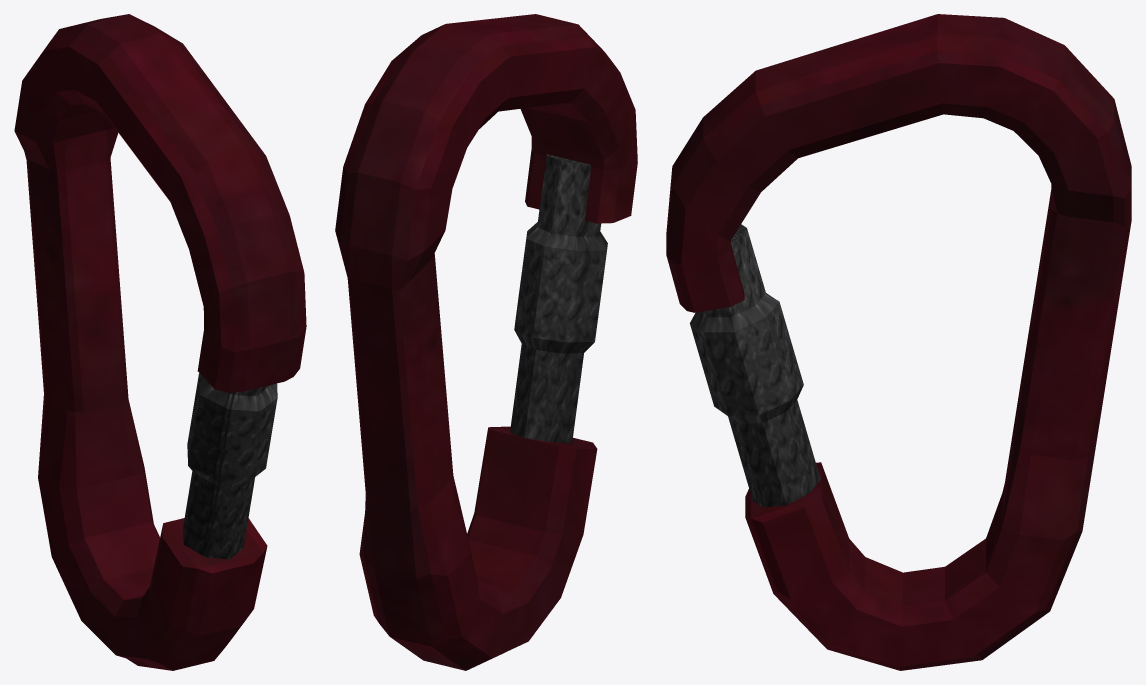
File: mosqueton.fbx
The picture shows the model from 3 angles, left to right: view 1: azimuth 30°, elevation 25°; view 2: azimuth 150°, elevation 25°; view 3: azimuth 270°, elevation 25°; orthographic projection. The views are drawn at different scales.
Visible parts, largest first — view 1: Cube, Cube.001; view 2: Cube, Cube.001; view 3: Cube, Cube.001.
Boxes of the visible parts, x1,y1,x2,y2 form: Cube: [14, 14, 306, 670]; Cube.001: [183, 373, 277, 559]; Cube: [335, 14, 637, 670]; Cube.001: [510, 154, 607, 443]; Cube: [666, 14, 1131, 670]; Cube.001: [690, 224, 820, 507].
Bounding box in the file's own units: 43.46 × 297 × 197.
